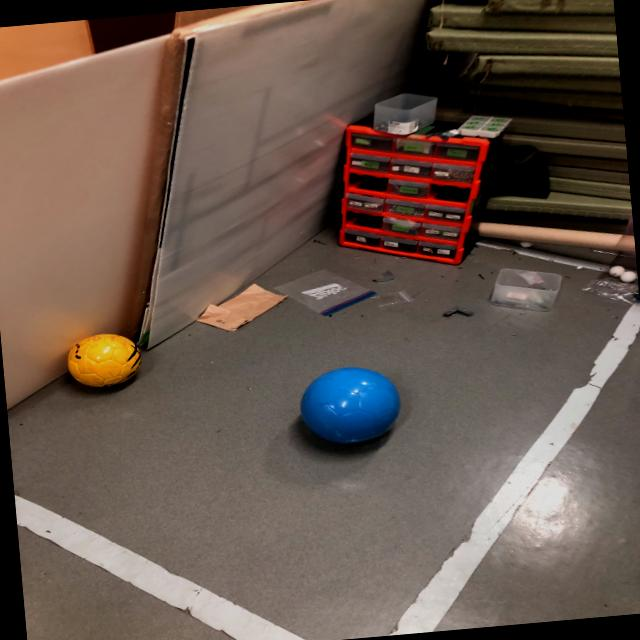blue_ball: (296, 361, 399, 450)
